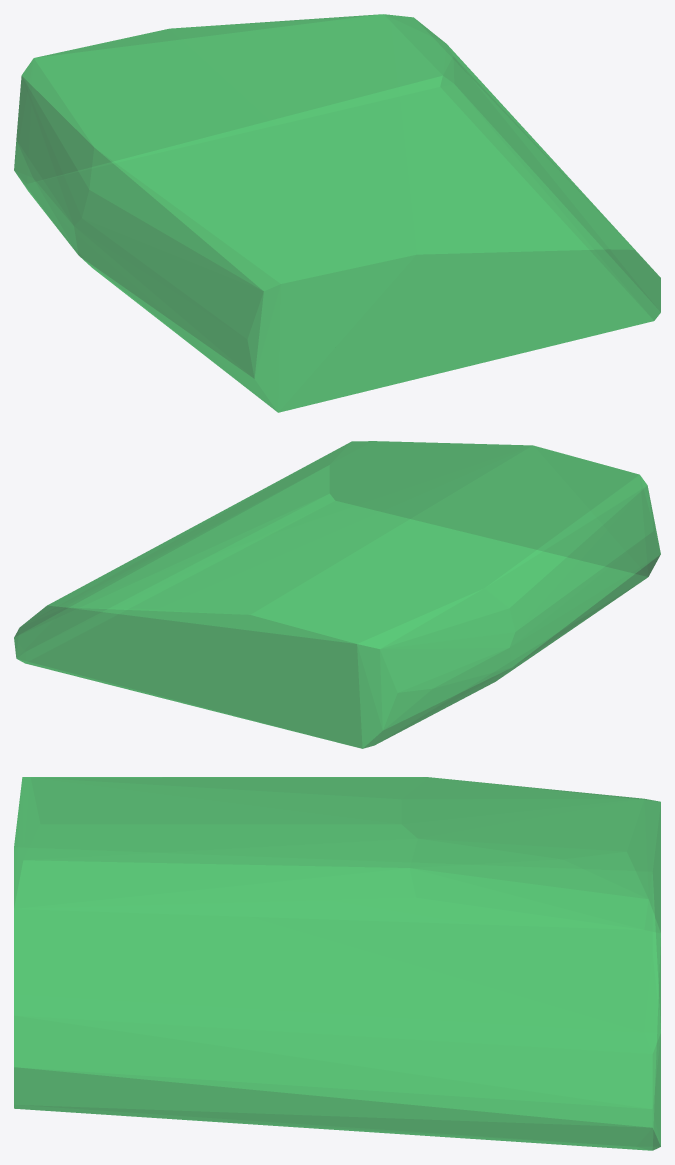
The picture shows the model from 3 angles, top to bottom: view 1: azimuth 30°, elevation 25°; view 2: azimuth 150°, elevation 25°; view 3: azimuth 270°, elevation 25°; orthographic projection. The views are drawn at different scales.
Parts seen in each view (by area): view 1: Shape_IndexedFaceSet.001_Shape_IndexedFaceSet.16310; view 2: Shape_IndexedFaceSet.001_Shape_IndexedFaceSet.16310; view 3: Shape_IndexedFaceSet.001_Shape_IndexedFaceSet.16310.
Boxes of the visible parts, bbox=[...] form: Shape_IndexedFaceSet.001_Shape_IndexedFaceSet.16310: bbox=[14, 14, 660, 412]; Shape_IndexedFaceSet.001_Shape_IndexedFaceSet.16310: bbox=[14, 441, 660, 748]; Shape_IndexedFaceSet.001_Shape_IndexedFaceSet.16310: bbox=[14, 777, 660, 1150].
Bounding box in the file's own units: 0.1911 × 0.0465 × 0.2017.
